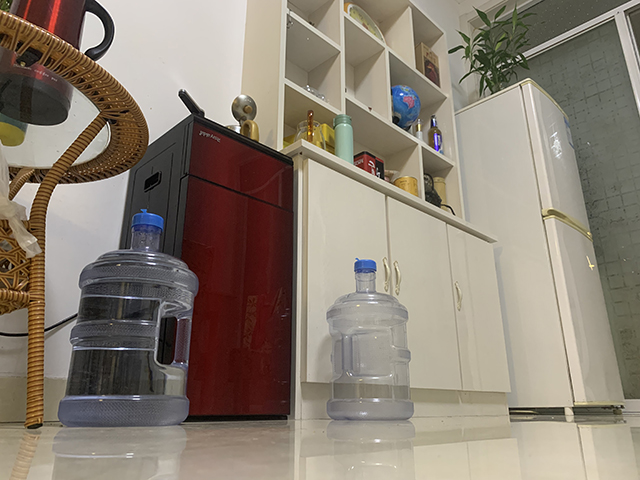cabinet: (286, 141, 512, 420), (116, 112, 296, 421)
table: (1, 11, 150, 432)
